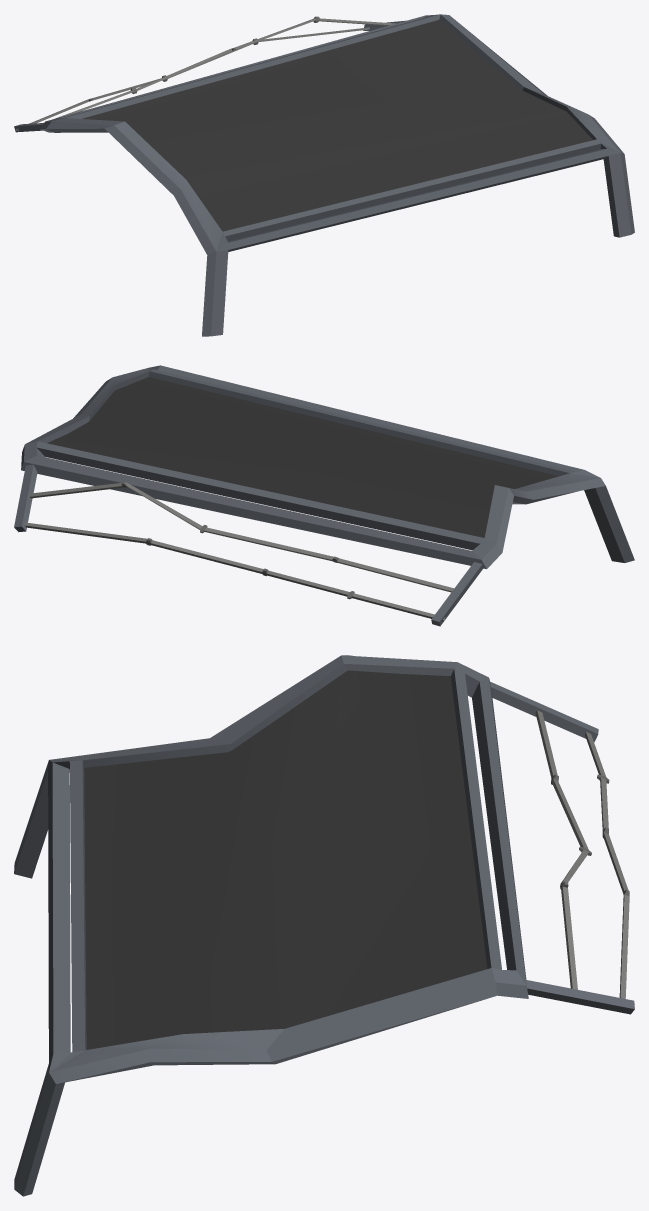
The model's file is SM_Prop_Fence_Damaged_02.fbx.
3 renders of one model, top to bottom at view 1: azimuth 30°, elevation 25°; view 2: azimuth 150°, elevation 25°; view 3: azimuth 270°, elevation 25°, orthographic. The views are drawn at different scales.
Visible parts, largest first — view 1: SM_Prop_Fence_Damaged_02; view 2: SM_Prop_Fence_Damaged_02; view 3: SM_Prop_Fence_Damaged_02.
Boxes of the visible parts, box(x1,y1,x2,y2) form: SM_Prop_Fence_Damaged_02: box(14, 14, 634, 336); SM_Prop_Fence_Damaged_02: box(14, 365, 634, 626); SM_Prop_Fence_Damaged_02: box(14, 655, 634, 1196).
Size of the model in its own units: 319 by 93.61 by 240.
